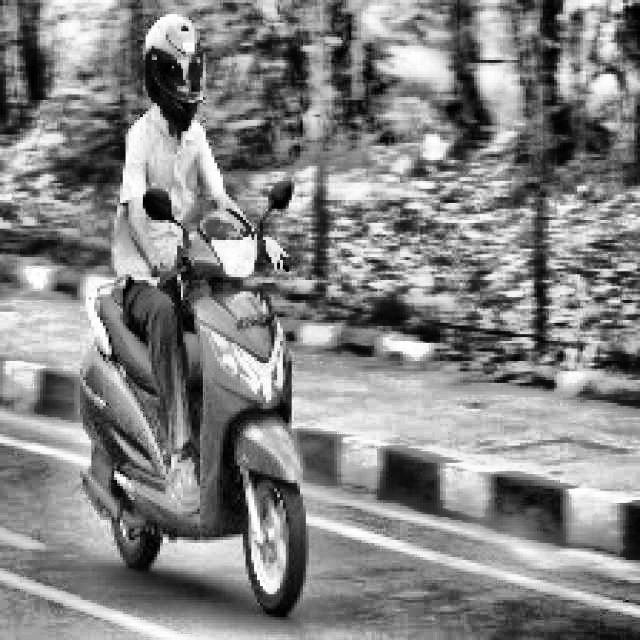motorcycle: (46, 188, 341, 623)
